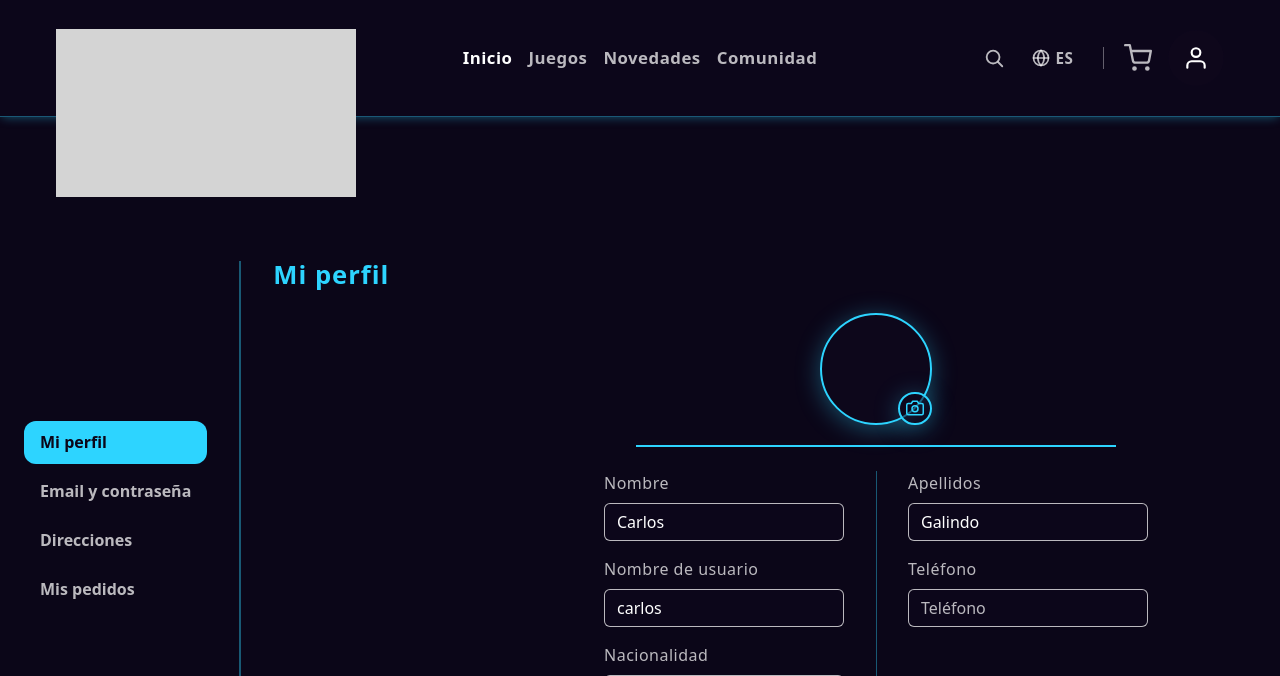
it: MiCuenta › al pulsar "Email y contraseña" en el menú, cambia el panel de contenido
Check: the field showing "Carlos" is shown, box [604,503,844,541]
What coordinates should you click on to do the following:
click the link "Email y contraseña"
I would click on:
 (116, 491)
Its box is [40,480,191,502].
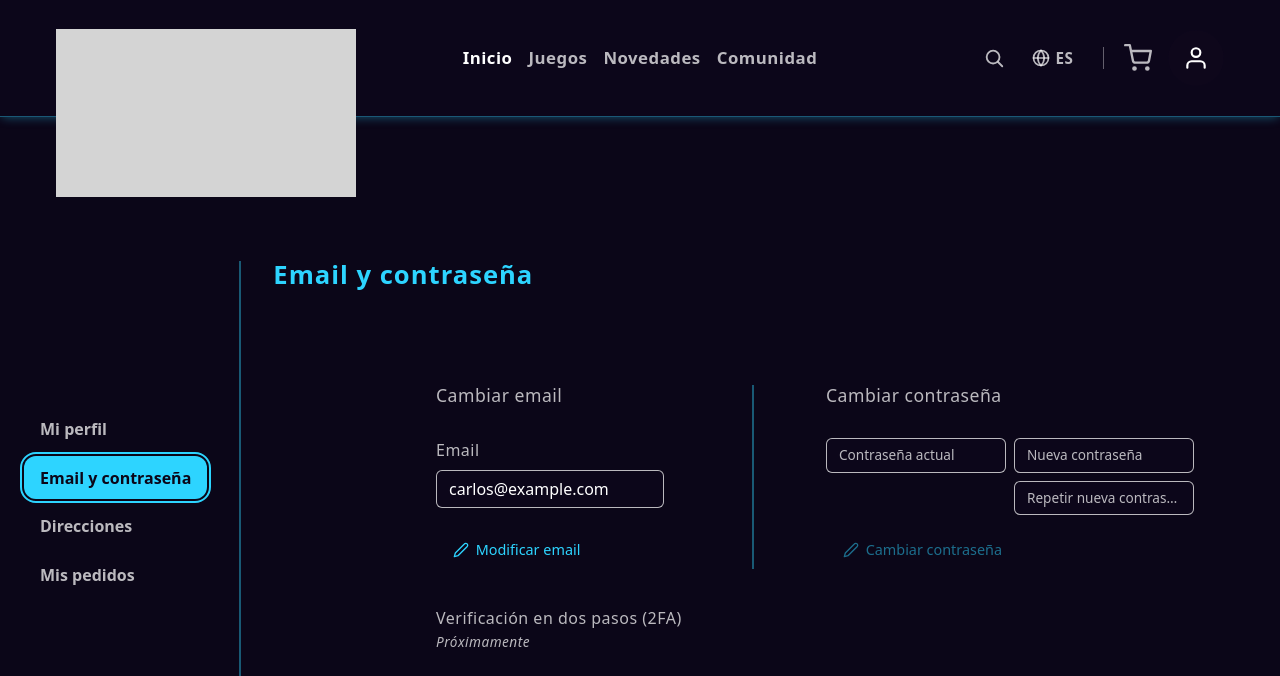
Check: the field showing "carlos@example.com" is shown, box [436,470,664,508]
